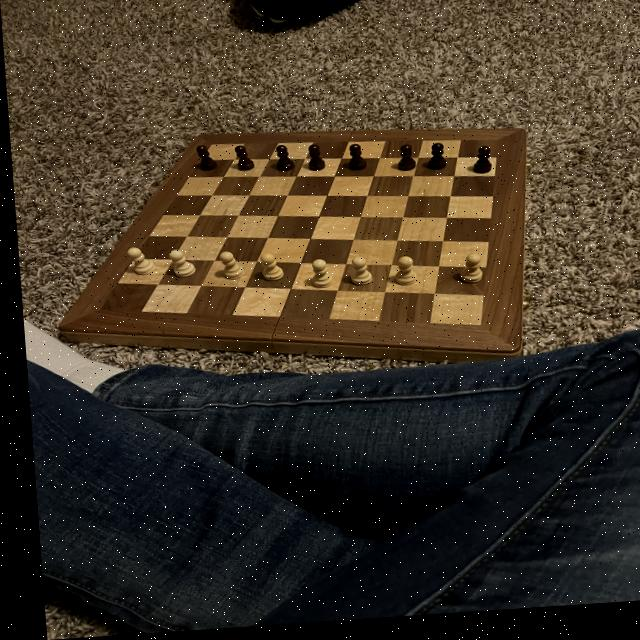black-knight: (465, 150, 493, 183), (419, 147, 447, 180), (190, 146, 219, 176), (391, 148, 415, 178), (269, 147, 293, 177), (231, 147, 254, 177), (302, 146, 324, 177), (344, 147, 366, 177)
white-knight: (119, 247, 154, 281), (161, 249, 194, 282), (301, 261, 332, 295), (211, 252, 242, 286), (387, 258, 415, 294), (254, 255, 283, 288), (344, 258, 369, 294), (453, 260, 481, 291)
